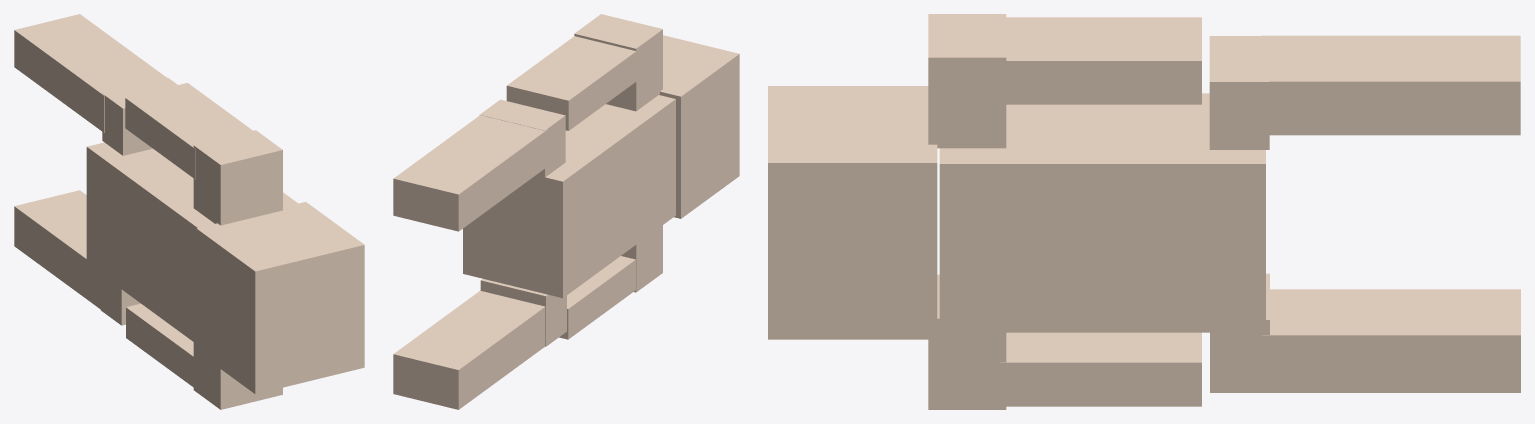
File: homelessPlayer.fbx
3 views of the same model, side by side, from view 1: azimuth 30°, elevation 25°; view 2: azimuth 150°, elevation 25°; view 3: azimuth 270°, elevation 25° (orthographic). The views are drawn at different scales.
Visible parts, largest first — view 1: man; view 2: man; view 3: man.
Boxes of the visible parts, left/top/right/bottom form: man: left=14, top=14, right=364, bottom=409; man: left=393, top=14, right=739, bottom=409; man: left=768, top=14, right=1520, bottom=409.
Bounding box in the file's own units: 1.58 × 3.37 × 6.53.
